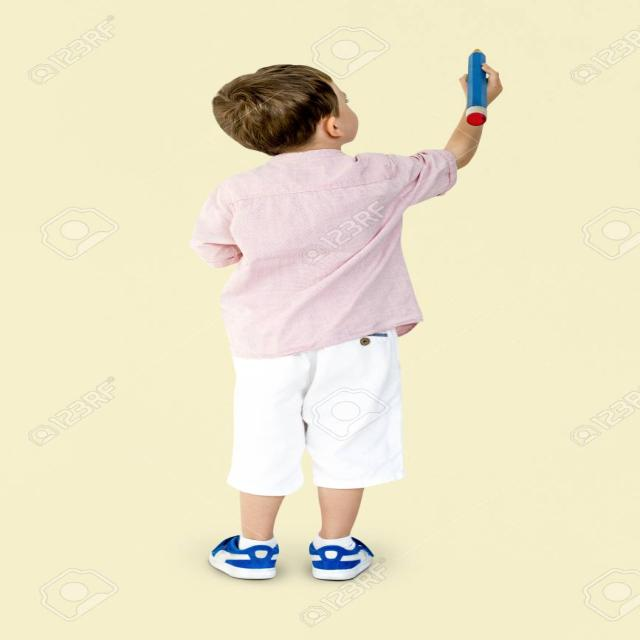child: (182, 61, 506, 587)
